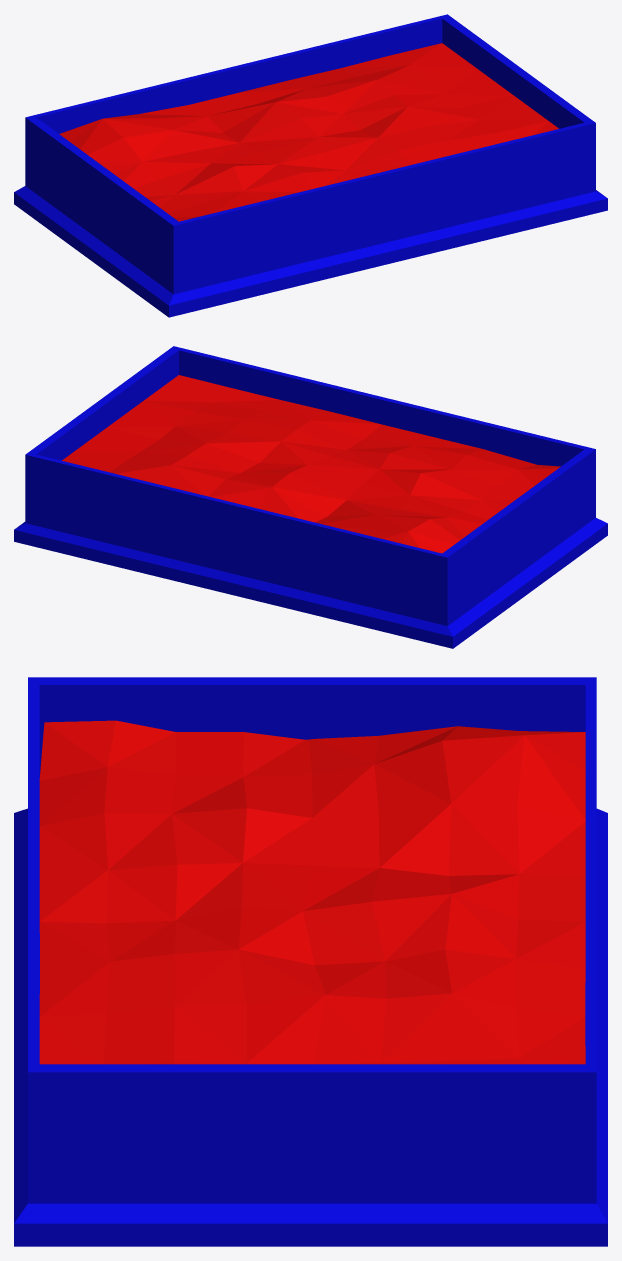
Rendered from Mini_PoolPlace.fbx.
The picture shows the model from 3 angles, top to bottom: view 1: azimuth 30°, elevation 25°; view 2: azimuth 150°, elevation 25°; view 3: azimuth 270°, elevation 25°; orthographic projection. The views are drawn at different scales.
Parts seen in each view (by area): view 1: polySurface209; view 2: polySurface209; view 3: polySurface209.
Part boxes in pixels (bbox=[...]): polySurface209: bbox=[14, 14, 607, 317]; polySurface209: bbox=[14, 346, 607, 648]; polySurface209: bbox=[14, 677, 607, 1246].
Size of the model in its own units: 21.95 by 4.15 by 13.41.
